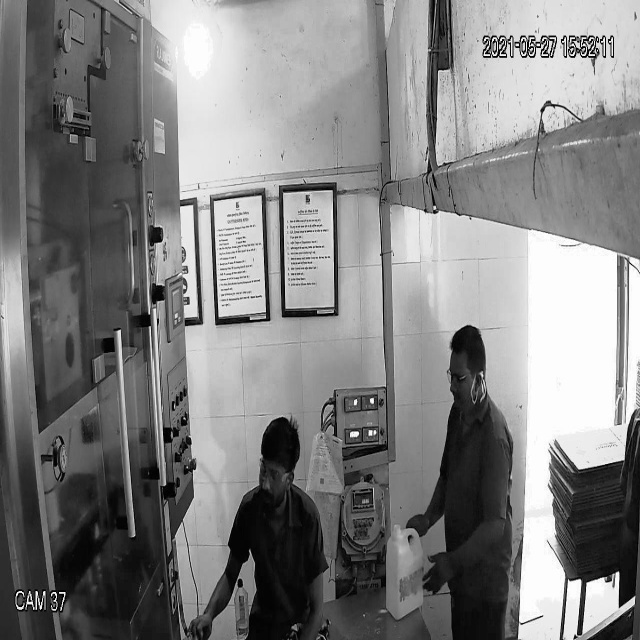Gafas: (256, 452, 295, 486), (444, 366, 484, 392)
